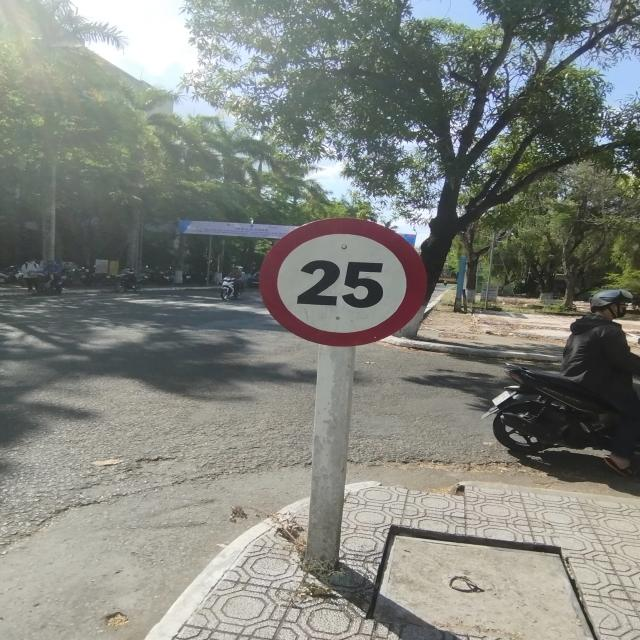Tre_Em: (257, 216, 429, 348)
